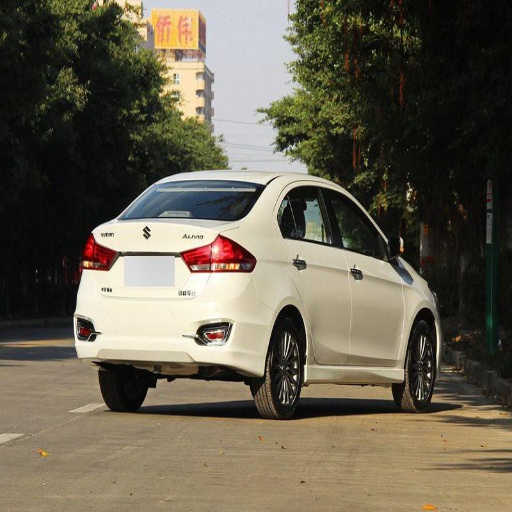back_bumper: (80, 273, 274, 373)
back_right_door: (281, 183, 349, 367)
tailgate: (94, 218, 210, 286)
trunk: (84, 264, 207, 326)
